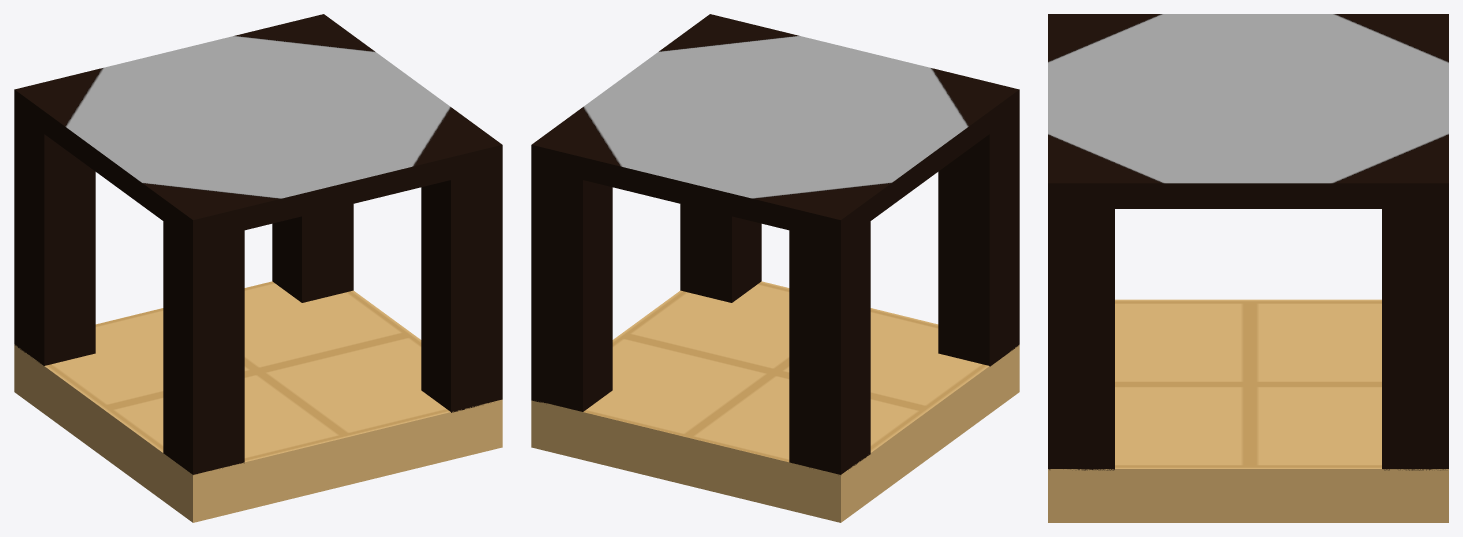
File: table.fbx
3 renders of one model, left to right at view 1: azimuth 30°, elevation 25°; view 2: azimuth 150°, elevation 25°; view 3: azimuth 270°, elevation 25°, orthographic. The views are drawn at different scales.
Parts seen in each view (by area): view 1: table, tile; view 2: table, tile; view 3: table, tile.
Part boxes in pixels (<box>): table: <box>14,14,502,474</box>; tile: <box>14,281,502,522</box>; table: <box>531,14,1019,474</box>; tile: <box>531,281,1019,522</box>; table: <box>1048,14,1448,470</box>; tile: <box>1048,299,1448,522</box>.
Bounding box in the file's own units: 1.98 × 1.85 × 1.98.
